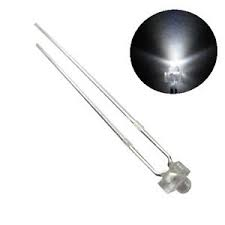LED: (111, 95, 202, 196)
